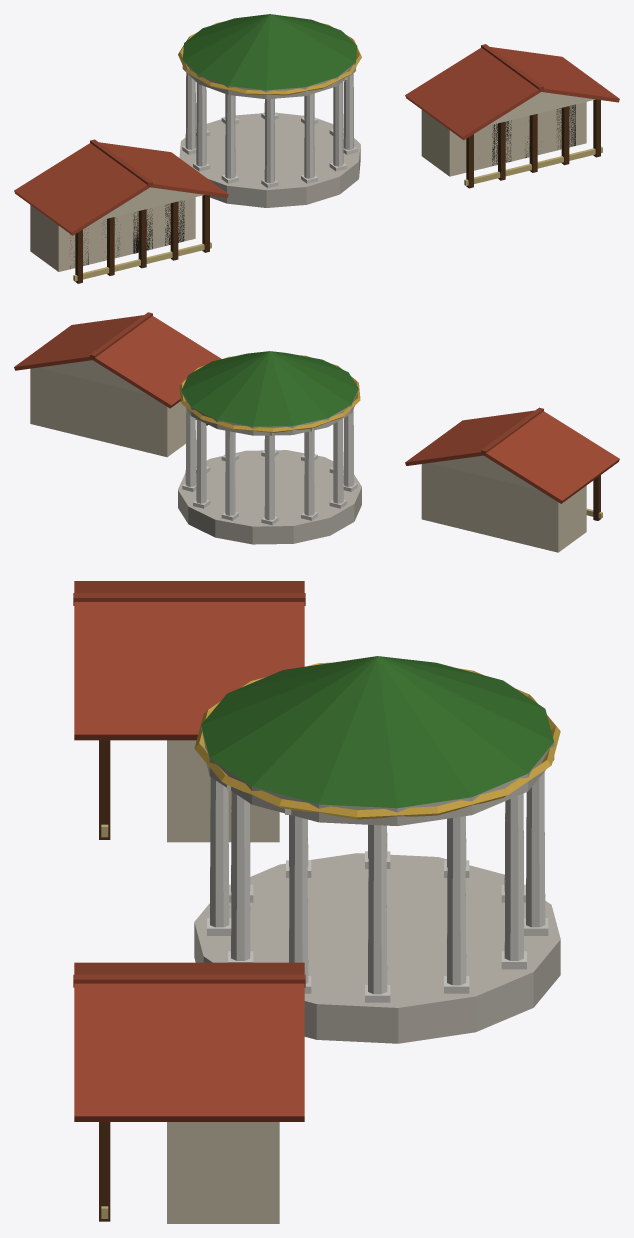
Rendered from centaur_court.glb.
3 renders of one model, top to bottom at view 1: azimuth 30°, elevation 25°; view 2: azimuth 150°, elevation 25°; view 3: azimuth 270°, elevation 25°, orthographic. The views are drawn at different scales.
Parts seen in each view (by area): view 1: centaur_court; view 2: centaur_court; view 3: centaur_court.
Boxes of the visible parts, x1,y1,x2,y2 form: centaur_court: (14,14,619,283); centaur_court: (14,312,619,552); centaur_court: (73,581,560,1223).
Size of the model in its own units: 6.73 by 1.82 by 2.59.
